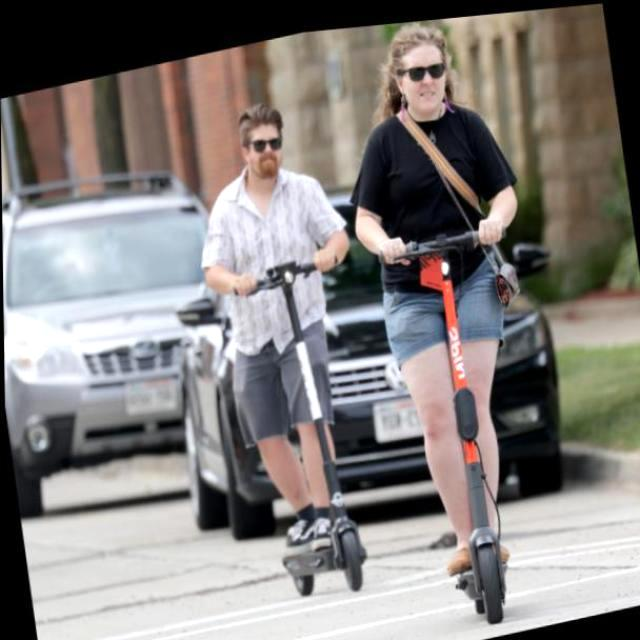bare_head: (373, 21, 469, 125), (224, 101, 292, 174)
human: (362, 22, 522, 556), (212, 91, 341, 524)
kickboard: (277, 541, 389, 603), (431, 559, 535, 623)
